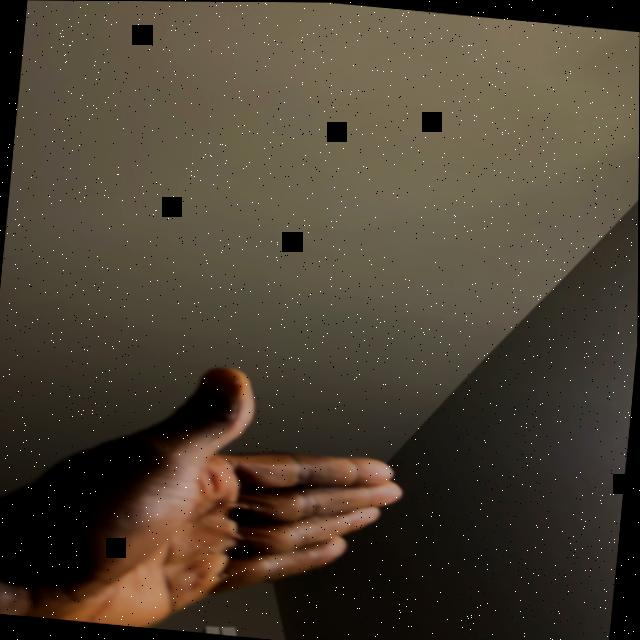Paper: (0, 343, 414, 640)
